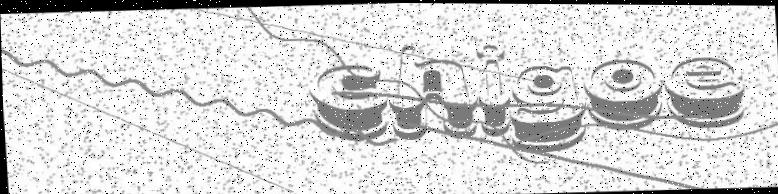c: (306, 61, 390, 143)
e: (662, 52, 748, 130)
g: (507, 59, 588, 153)
h: (384, 40, 479, 141)
i: (474, 41, 512, 136)
o: (582, 56, 665, 132)
